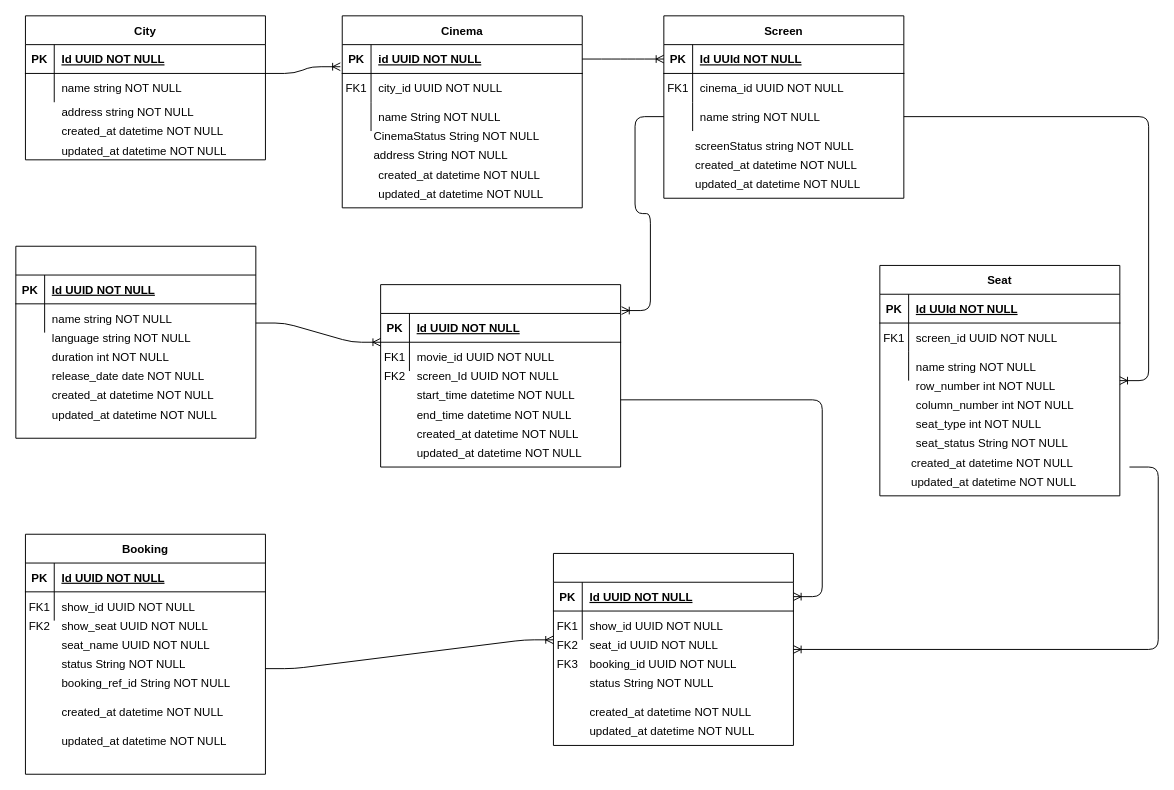
Some shapes in this 1174 by 790 pixel diagram are drawn without their labels. Each missing label, with the box of its shape:
Movie: (15, 245, 256, 438)
Show: (380, 284, 621, 467)
ShowSeat: (552, 552, 793, 745)
